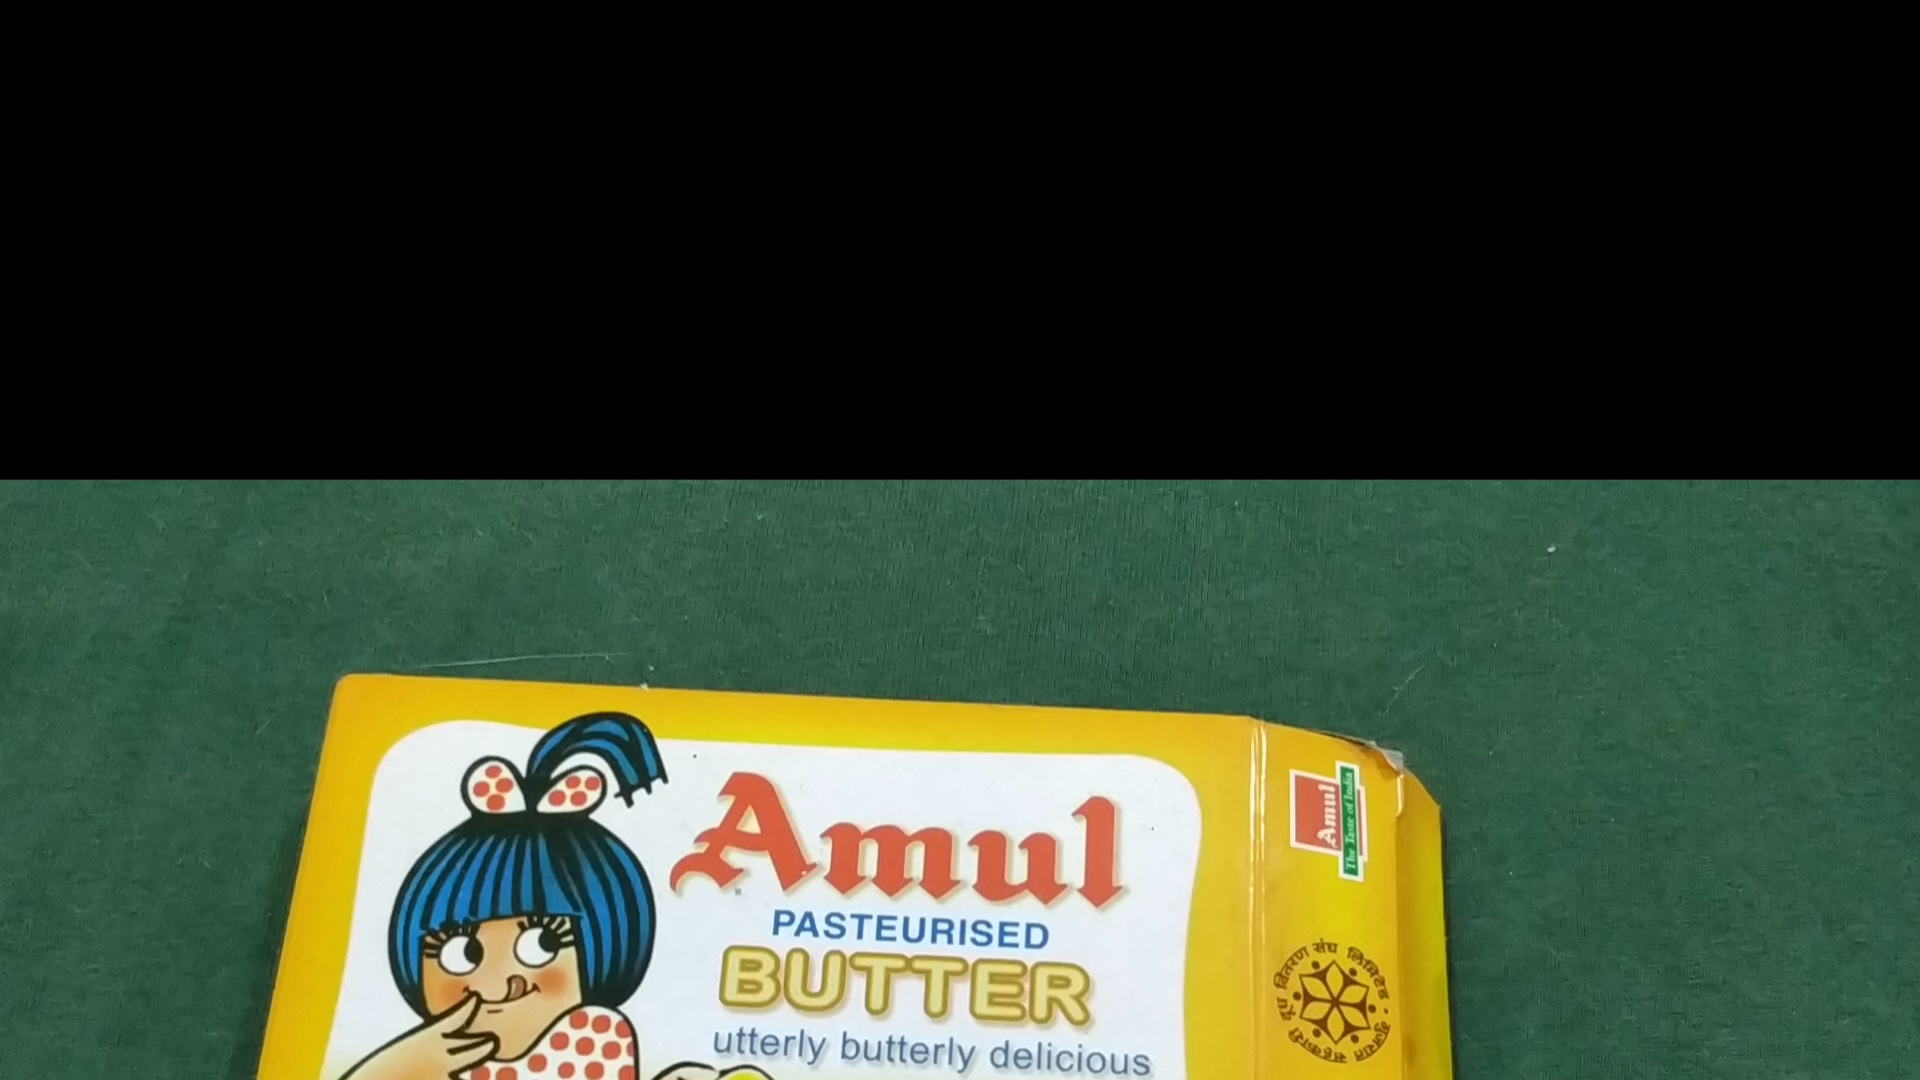amul_butter: (210, 673, 1457, 1080)
